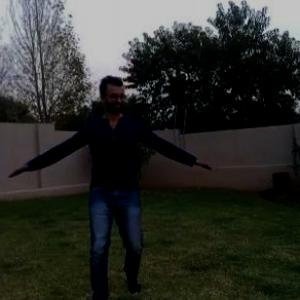land: (1, 44, 240, 299)
